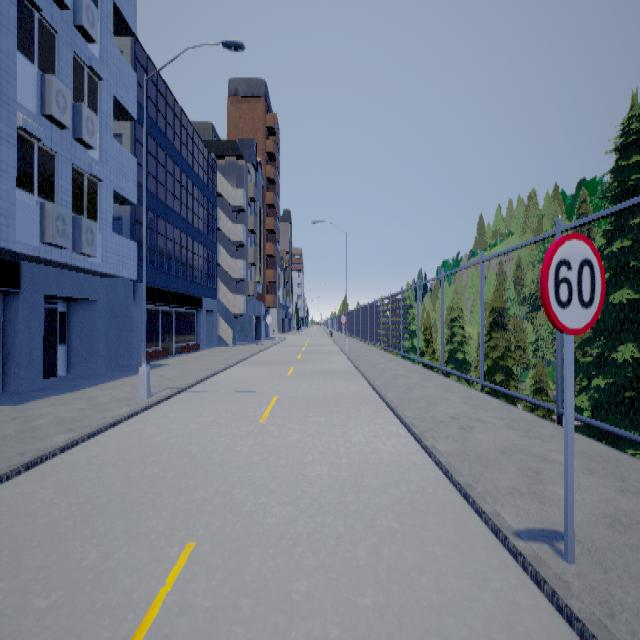traffic_sign: (539, 231, 604, 333)
